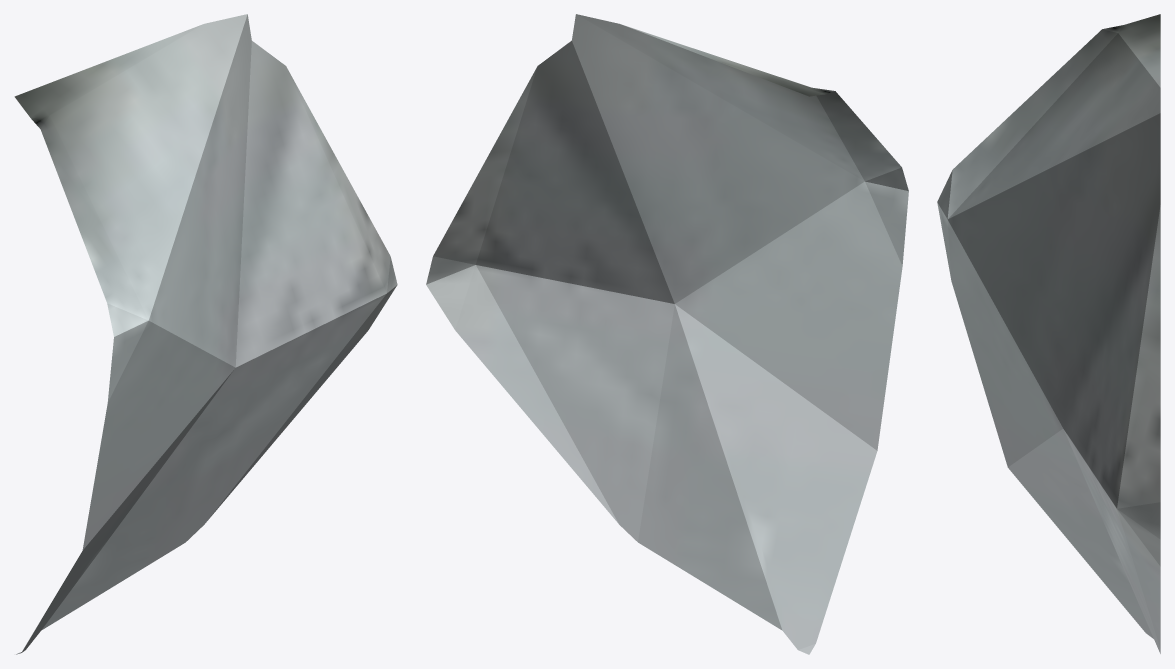
The picture shows the model from 3 angles, left to right: view 1: azimuth 30°, elevation 25°; view 2: azimuth 150°, elevation 25°; view 3: azimuth 270°, elevation 25°; orthographic projection. The views are drawn at different scales.
Bounding box in the file's own units: 0.1084 × 0.158 × 0.0488.
1 material, 1 textured.
